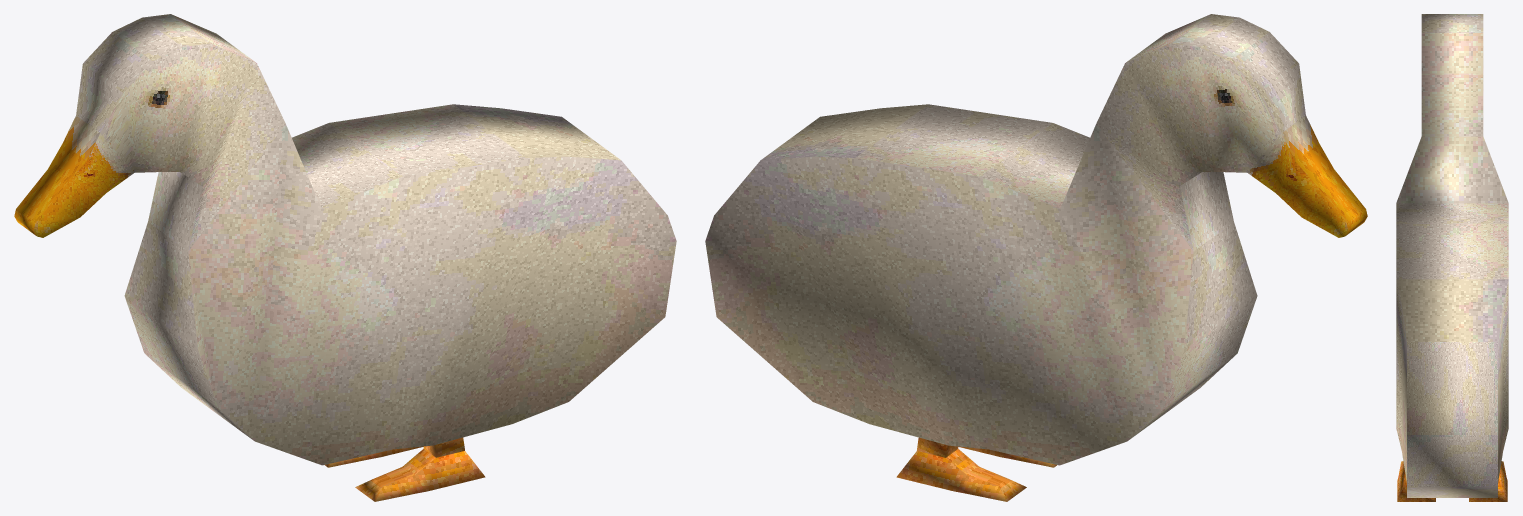
Rendered from duckV2.glb.
3 views of the same model, side by side, from view 1: azimuth 30°, elevation 25°; view 2: azimuth 150°, elevation 25°; view 3: azimuth 270°, elevation 25° (orthographic). The views are drawn at different scales.
Parts seen in each view (by area): view 1: Duck, FootL; view 2: Duck, FootR; view 3: Duck, FootL, FootR.
Boxes of the visible parts, bbox=[...] form: Duck: bbox=[14, 14, 676, 465]; FootL: bbox=[355, 437, 485, 501]; Duck: bbox=[705, 14, 1367, 465]; FootR: bbox=[896, 437, 1026, 501]; Duck: bbox=[1396, 14, 1508, 497]; FootL: bbox=[1397, 461, 1435, 501]; FootR: bbox=[1469, 461, 1507, 501].
Bounding box in the file's own units: 6.47 × 4.85 × 1.32.
Materials: 2 (2 with a texture image).
